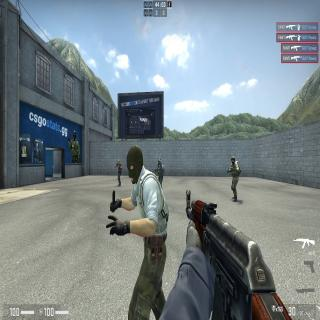CT-Body: (230, 155, 239, 202), (158, 157, 165, 184)
CT-Head: (231, 156, 235, 164), (158, 157, 161, 164)
T-Body: (126, 145, 168, 320), (116, 159, 122, 185)
T-Head: (126, 146, 144, 183), (117, 159, 120, 164)
